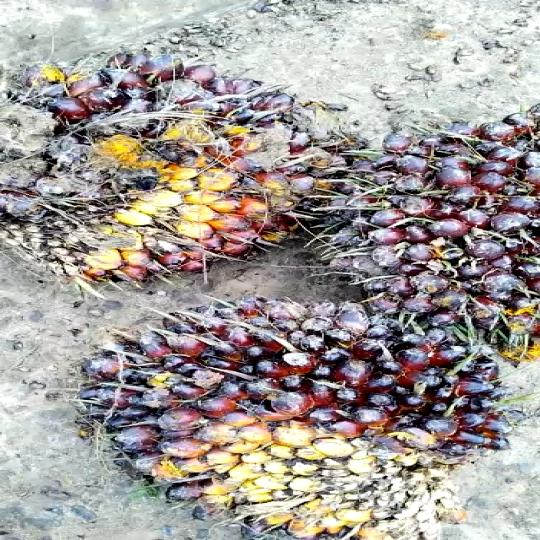kurang masak: (70, 284, 498, 534), (0, 44, 357, 294), (315, 101, 540, 376)
